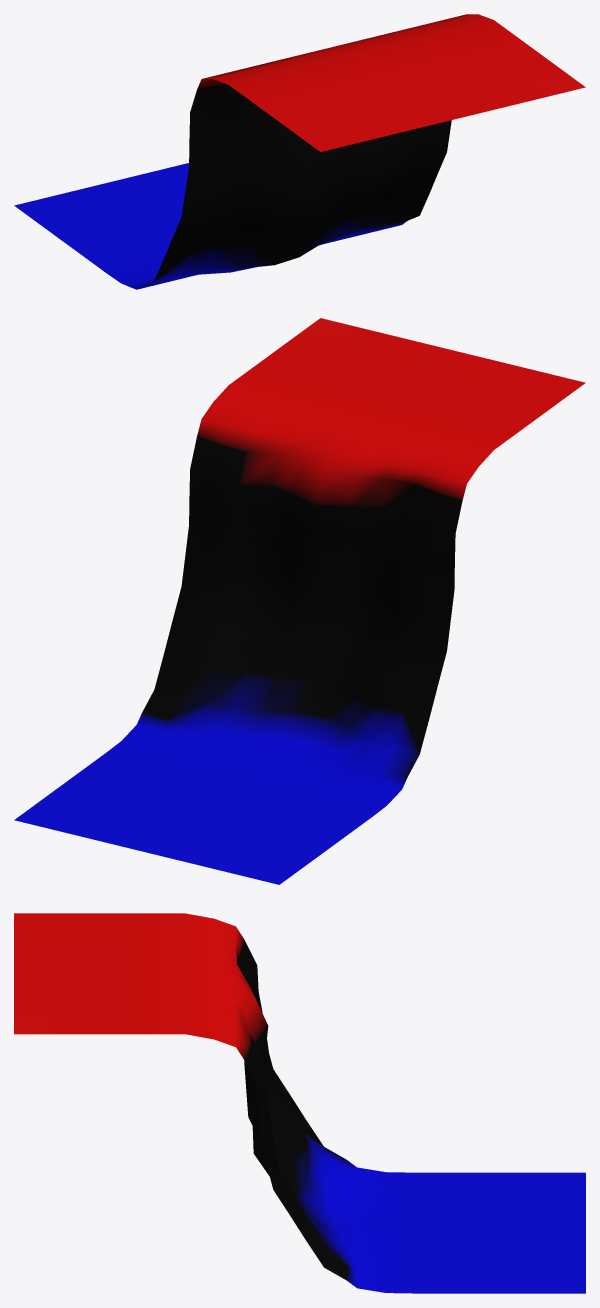
File: RiveCliff00A Foreground.fbx
3 views of the same model, one above another, from view 1: azimuth 30°, elevation 25°; view 2: azimuth 150°, elevation 25°; view 3: azimuth 270°, elevation 25° (orthographic). The views are drawn at different scales.
Visible parts, largest first — view 1: RiveCliff00A Foreground; view 2: RiveCliff00A Foreground; view 3: RiveCliff00A Foreground.
Boxes of the visible parts, x1,y1,x2,y2 form: RiveCliff00A Foreground: (14, 14, 585, 289); RiveCliff00A Foreground: (14, 318, 585, 884); RiveCliff00A Foreground: (14, 913, 585, 1293).
Bounding box in the file's own units: 1 × 1 × 2.
